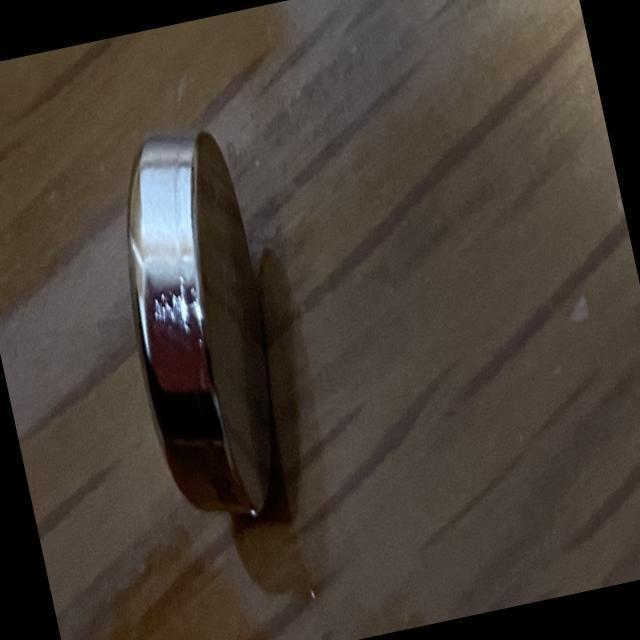COIN: (97, 114, 310, 540)
